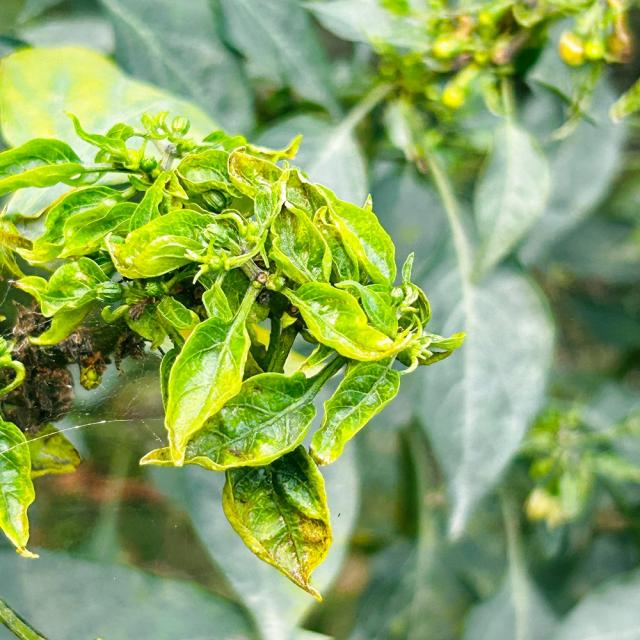Chilli_Leaf_Curl: (1, 108, 465, 602), (141, 277, 267, 468), (220, 444, 334, 602), (307, 358, 401, 466)
